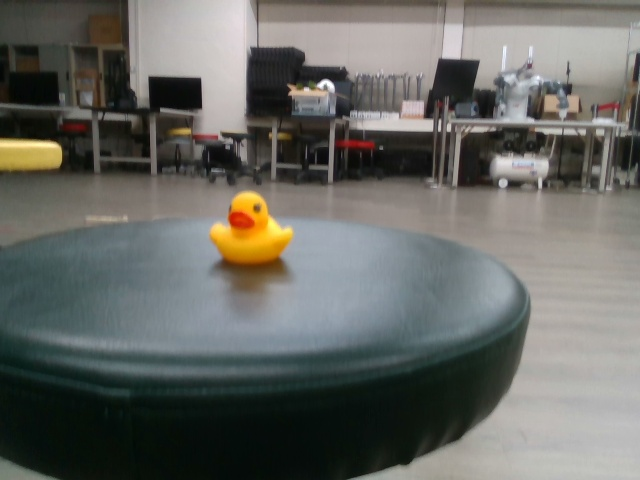duck: (205, 185, 300, 268)
